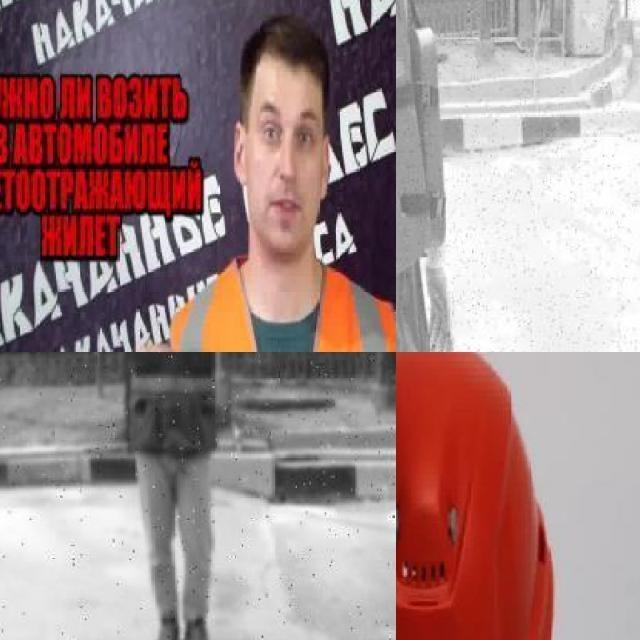apron: (422, 233, 457, 352)
